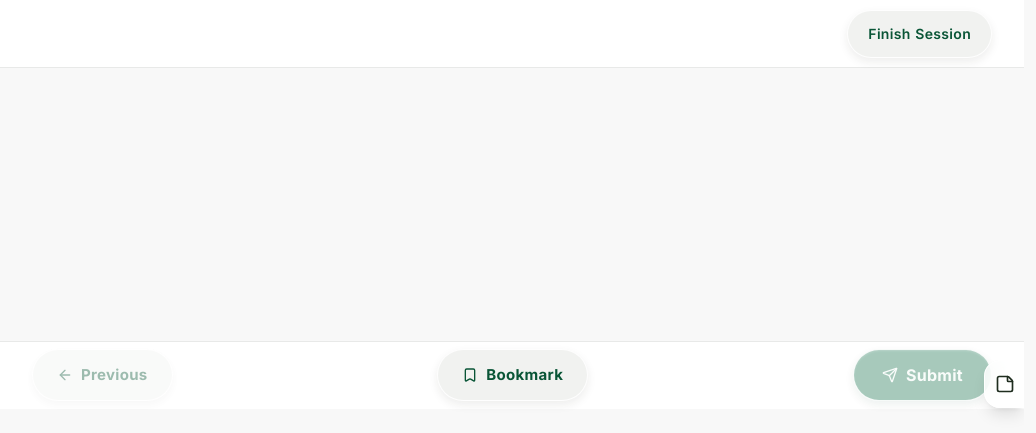
Test: AdaptivePracticeMode session completion › marks self-practice complete before opening the summary
Click the button "Finish Session". click: (920, 34)
box: 847,10 -> 992,58
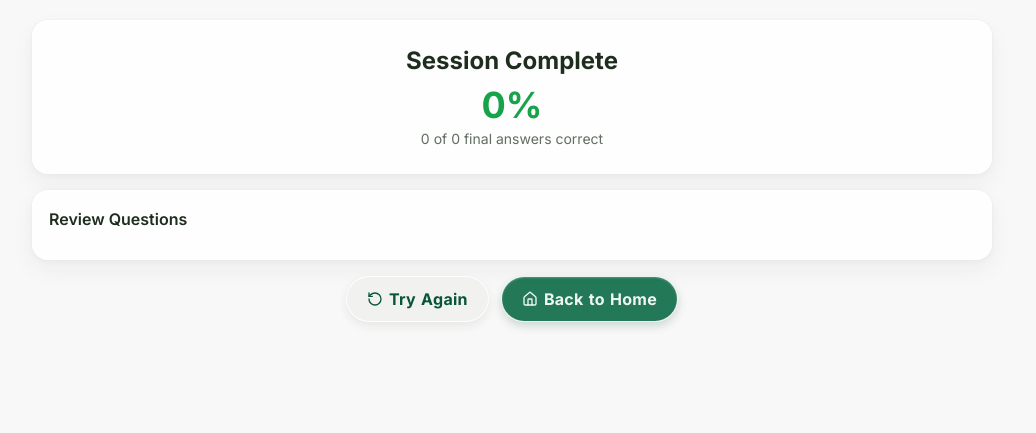
Check: the heading "Session Complete" is shown, box 406,46 -> 618,75
